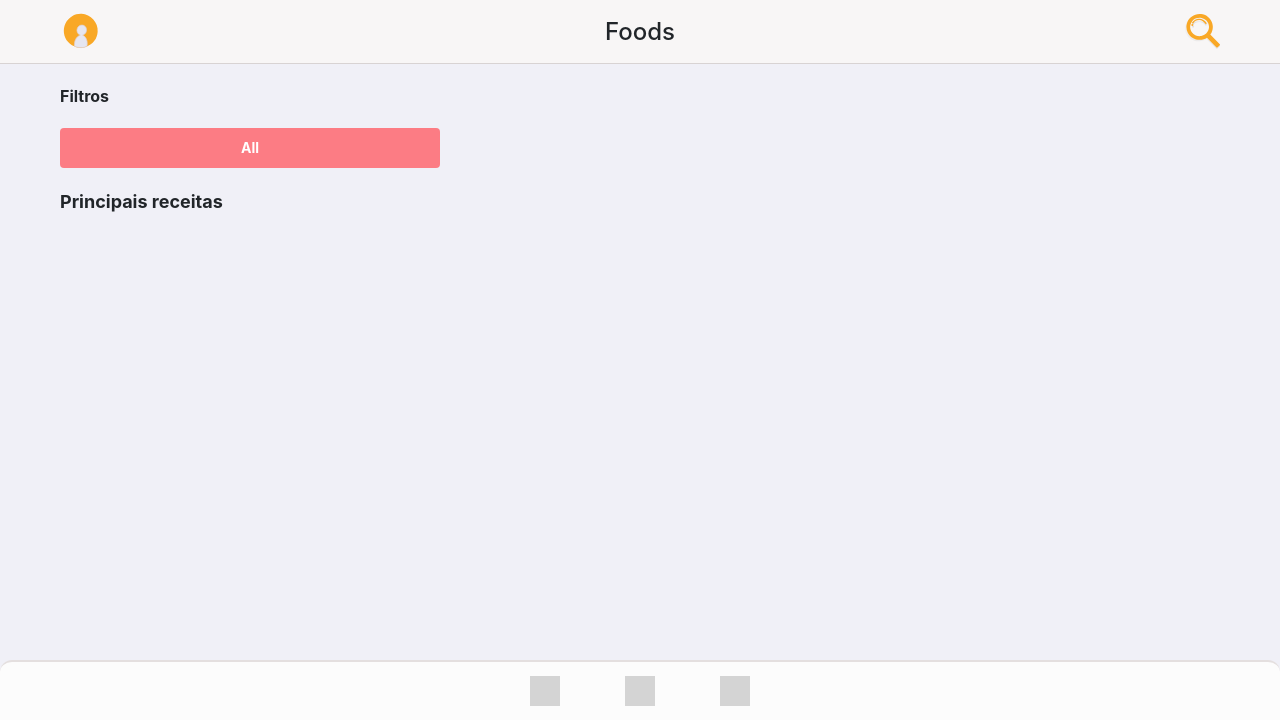
it: Teste do componente Header › Esconde e revela a barra de pesquisa ao clicar no botão de busca
The width and height of the screenshot is (1280, 720).
Click the button with test id "search-top-btn": (1202, 31) x1=833 y1=14 x2=1220 y2=49
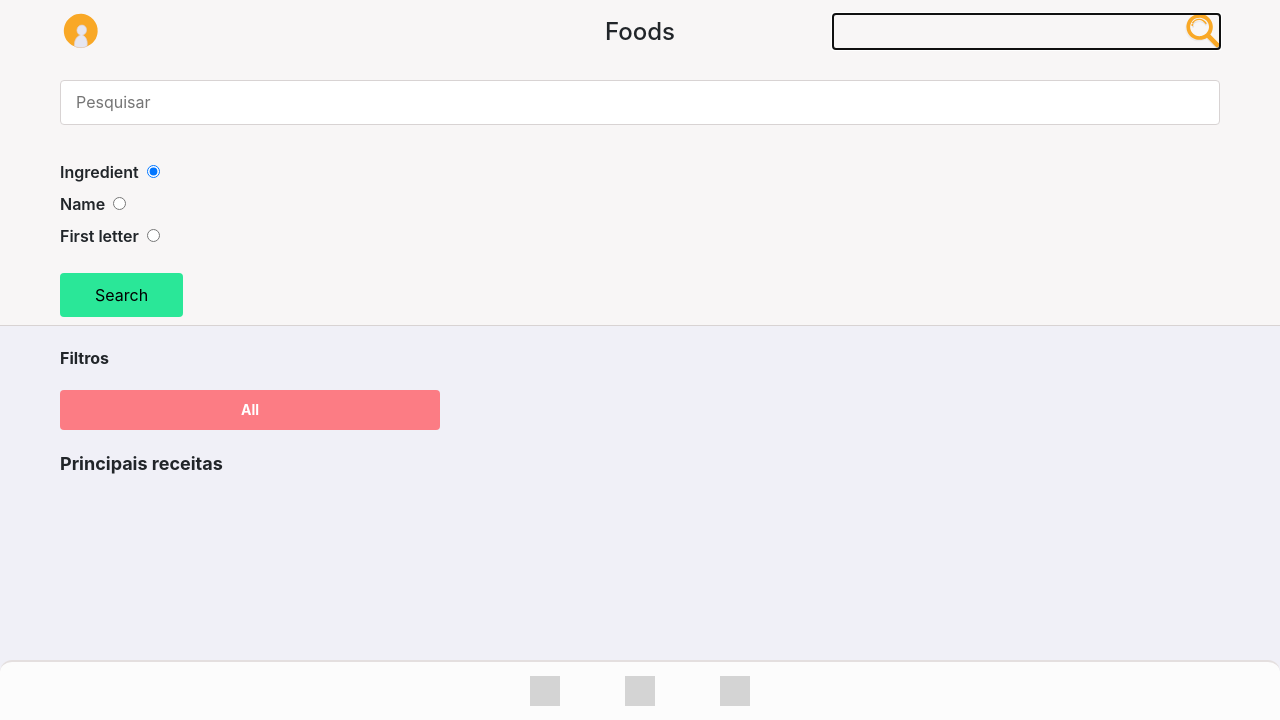
Check: the field with test id "search-input" is shown, box x1=60 y1=80 x2=1220 y2=125
Click the button with test id "search-top-btn": (1202, 31) x1=833 y1=14 x2=1220 y2=49
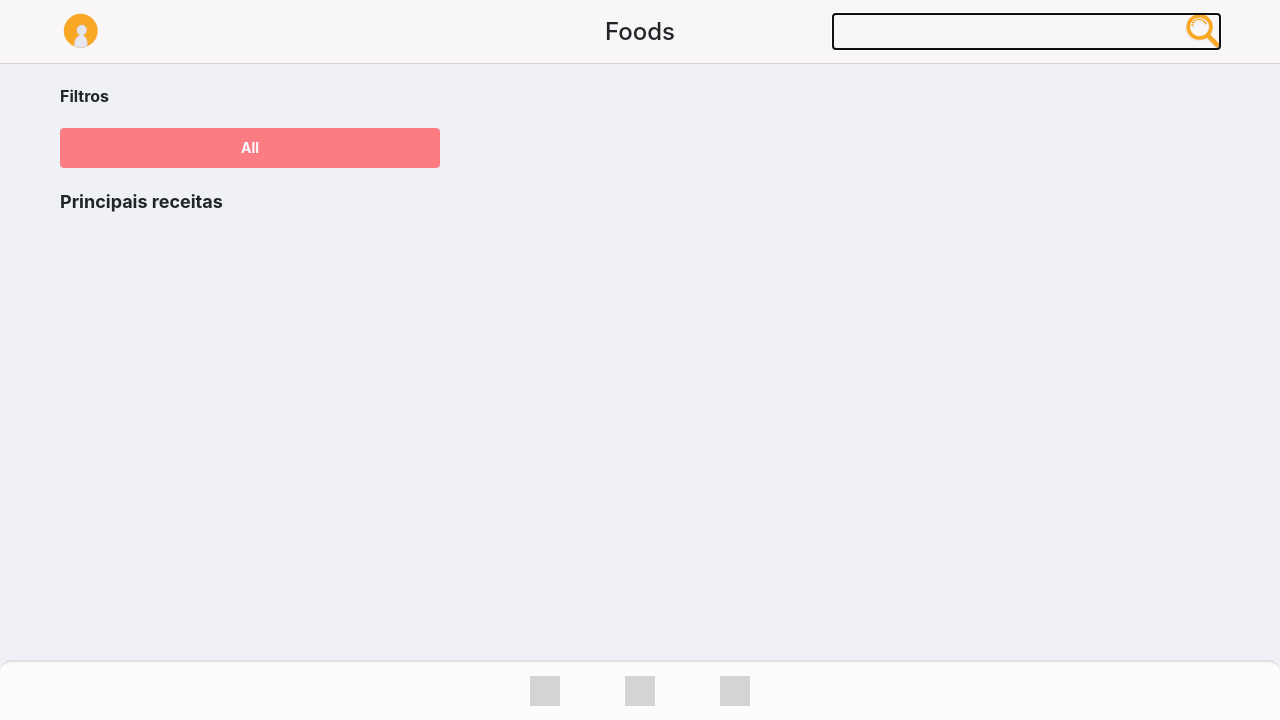
Check: the field with test id "search-input" is gone
